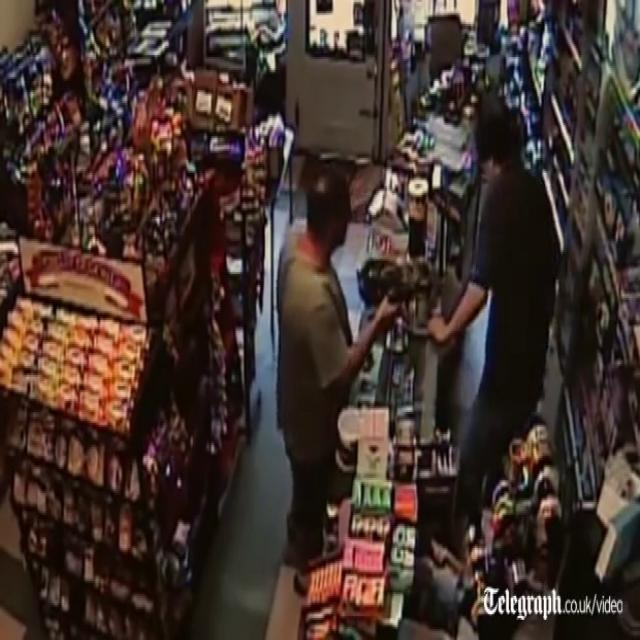weapon: (382, 274, 430, 307)
